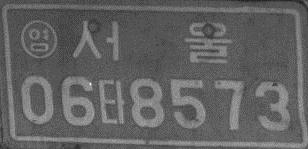0: (19, 73, 54, 125)
3: (254, 79, 291, 132)
5: (170, 77, 205, 129)
6: (59, 74, 95, 127)
7: (214, 77, 246, 130)
8: (129, 77, 164, 128)
서울_D: (70, 18, 232, 64)
영: (19, 18, 57, 59)
타: (98, 78, 125, 125)
